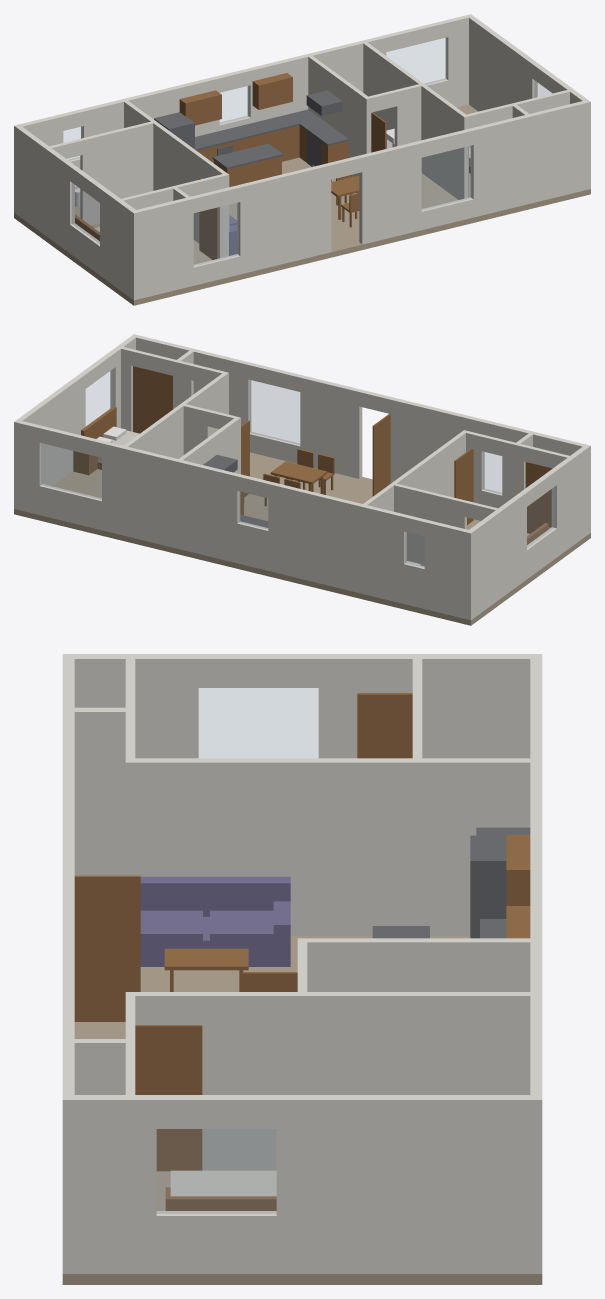
File: adu-880.glb
3 views of the same model, one above another, from view 1: azimuth 30°, elevation 25°; view 2: azimuth 150°, elevation 25°; view 3: azimuth 270°, elevation 25° (orthographic). The views are drawn at different scales.
Visible parts, largest first — view 1: wall_ext_south_4, wall_ext_south_2, floor_slab, wall_ext_south_1, wall_ext_south_3, wall_bed2_west_1, wall_ext_west_1, wall_bath1_south_2, wall_ext_east_1, wall_ext_north_3, wall_bed1_east_1, wall_ext_north_2 (+44 smaller); view 2: wall_ext_north_2, wall_ext_north_3, floor_slab, wall_ext_west_1, wall_ext_south_3, wall_ext_south_2, wall_ext_north_1, wall_ext_east_1, wall_bed2_west_1, wall_ext_west_2, wall_ext_south_4, wall_bed1_east_1 (+43 smaller); view 3: wall_bed1_east_1, wall_ext_east_1, wall_bed2_west_1, wall_ext_west_1, wall_ext_east_2, wall_bath2_west_1, glass_wall_ext_east_1, floor_slab, wall_ext_west_2, door_01_entry, wall_closet1_east_1, glass_wall_ext_west_1 (+26 smaller).
Part boxes in pixels (<box>): wall_ext_south_4: <box>470,101,590,217</box>; wall_ext_south_2: <box>237,163,331,274</box>; floor_slab: <box>14,104,590,305</box>; wall_ext_south_1: <box>131,196,193,300</box>; wall_ext_south_3: <box>359,141,421,244</box>; wall_bed2_west_1: <box>361,40,468,199</box>; wall_ext_west_1: <box>14,124,74,253</box>; wall_bath1_south_2: <box>80,120,156,225</box>; wall_ext_east_1: <box>466,14,537,111</box>; wall_ext_north_3: <box>247,35,386,123</box>; wall_bed1_east_1: <box>121,98,229,256</box>; wall_ext_north_2: <box>81,76,219,138</box>; wall_ext_north_2: <box>268,482,406,603</box>; wall_ext_north_3: <box>102,441,240,563</box>; floor_slab: <box>14,452,590,625</box>; wall_ext_west_1: <box>466,491,526,619</box>; wall_ext_south_3: <box>300,375,362,478</box>; wall_ext_south_2: <box>390,397,484,504</box>; wall_ext_north_1: <box>424,520,473,620</box>; wall_ext_east_1: <box>14,373,85,489</box>; wall_bed2_west_1: <box>120,372,228,535</box>; wall_ext_west_2: <box>551,445,590,556</box>; wall_ext_south_4: <box>131,334,251,432</box>; wall_bed1_east_1: <box>360,432,465,593</box>; wall_bed1_east_1: <box>125,758,541,936</box>; wall_ext_east_1: <box>276,1095,542,1273</box>; wall_bed2_west_1: <box>125,992,538,1169</box>; wall_ext_west_1: <box>318,654,542,758</box>; wall_ext_east_2: <box>62,1095,156,1273</box>; wall_bath2_west_1: <box>297,938,541,991</box>; glass_wall_ext_east_1: <box>157,1129,276,1213</box>; floor_slab: <box>62,936,542,1284</box>; wall_ext_west_2: <box>63,654,198,758</box>; door_01_entry: <box>74,875,140,1021</box>; wall_closet1_east_1: <box>63,707,129,875</box>; glass_wall_ext_west_1: <box>199,688,318,757</box>.
Size of the model in its own units: 13.41 by 2.59 by 6.1.
